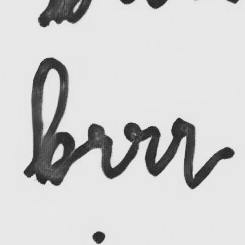b: (28, 56, 78, 188)
r: (163, 113, 203, 183), (121, 120, 162, 178), (81, 122, 118, 181)
